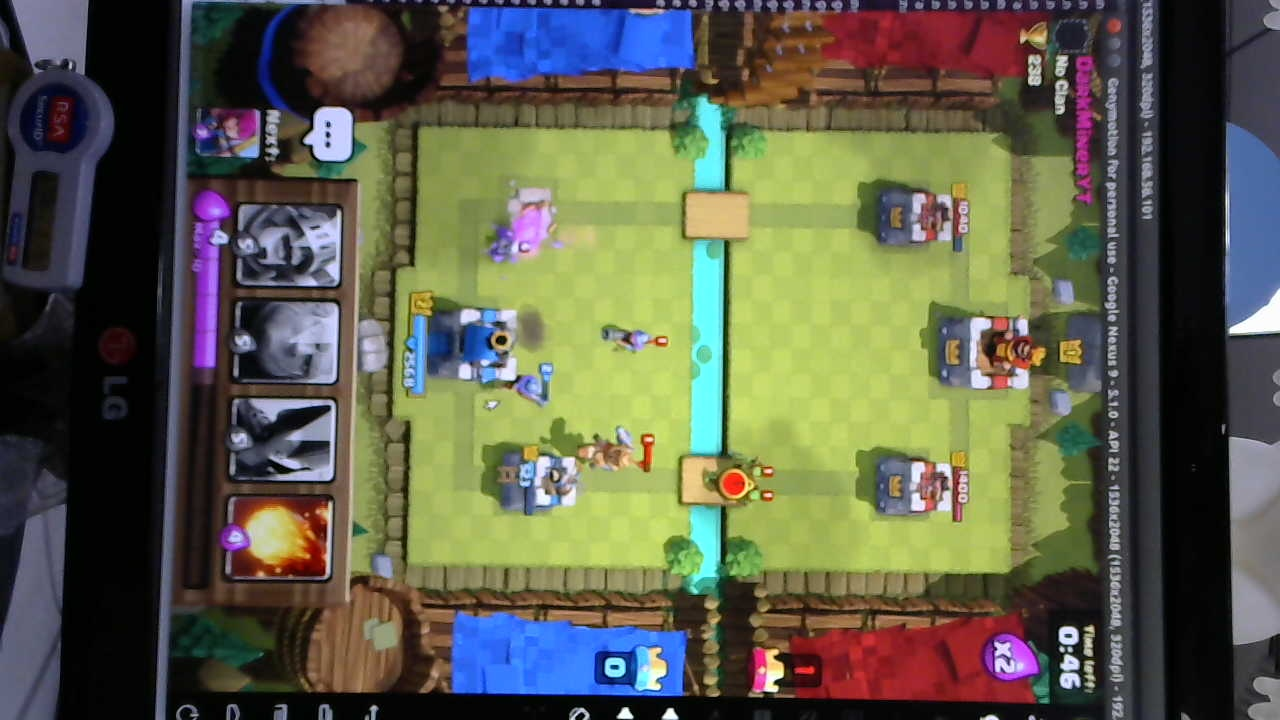arena: (498, 449, 579, 512)
earena: (872, 184, 956, 249), (874, 453, 953, 521)
eking: (938, 312, 1036, 393)
king: (436, 307, 524, 386)
musketeer: (596, 323, 653, 356), (505, 372, 546, 405)
prince: (580, 428, 639, 475)
speargoblins: (707, 449, 775, 512)
